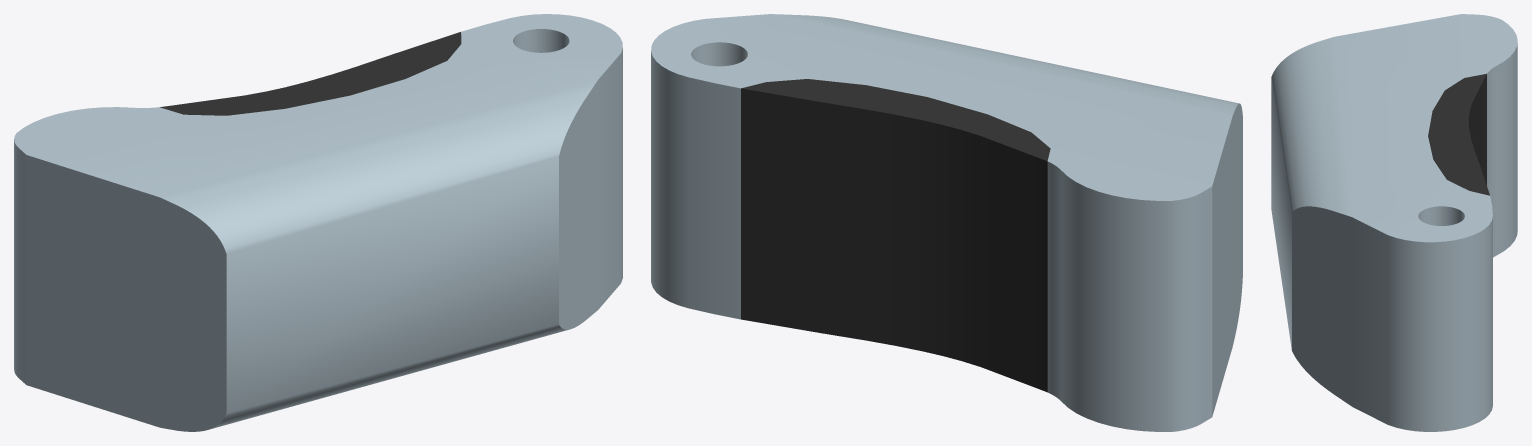
The model's file is finger_proximal.dae.
3 views of the same model, side by side, from view 1: azimuth 30°, elevation 25°; view 2: azimuth 150°, elevation 25°; view 3: azimuth 270°, elevation 25° (orthographic). The views are drawn at different scales.
Parts seen in each view (by area): view 1: node.009; view 2: node.009; view 3: node.009.
Boxes of the visible parts, box(x1,y1,x2,y2) form: node.009: box(14, 14, 622, 431); node.009: box(651, 14, 1242, 431); node.009: box(1271, 14, 1517, 431).
Bounding box in the file's own units: 0.0579 × 0.0264 × 0.0224.
1 material, 1 textured.
